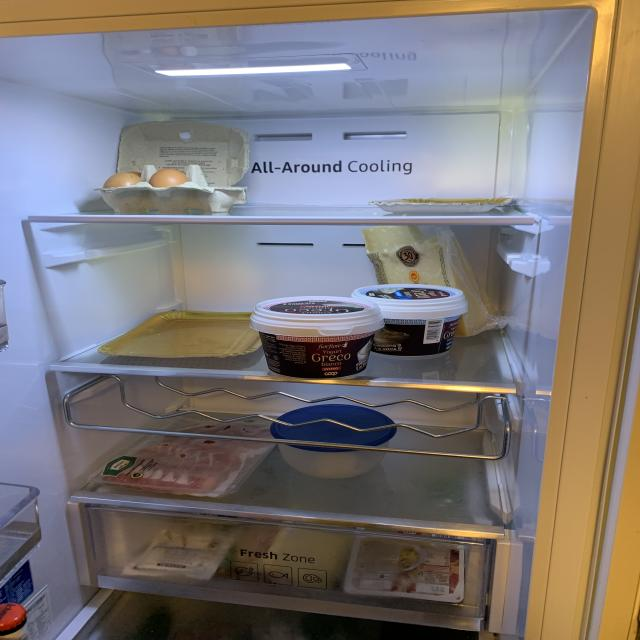courgettes: (130, 606, 173, 640)
eggs: (99, 169, 189, 189)
ham: (109, 420, 272, 494)
mid_seasoned_cheese: (237, 525, 347, 579)
parmesan_cheese: (363, 224, 502, 338)
yoghurt: (250, 297, 384, 377), (353, 284, 466, 358)
